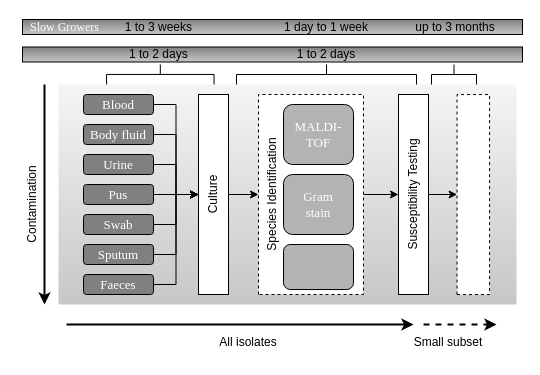
This 540x375 diagram has some shape labels left out. Each missing label, with the centre of its shape:
"Biochemical tests" belongs at (318,267).
"Rapid Growers" belongs at (272,54).
"Typing" belongs at (473,194).
"up to 6 weeks" belongs at (453,74).
